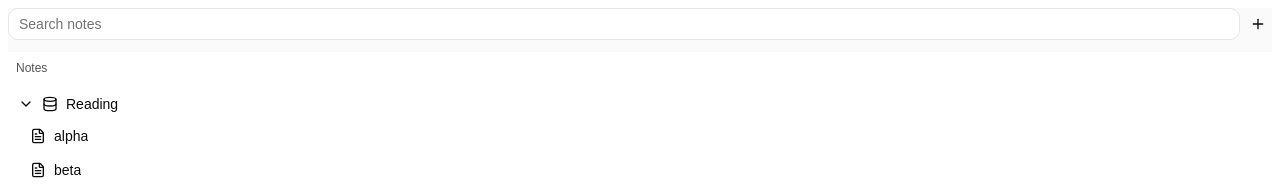
Test: NotesSidebar › filters the tree with the search input
Type "beta" into the field labelled "Search notes".
click(624, 24); type("beta")  # box x1=8 y1=8 x2=1240 y2=40
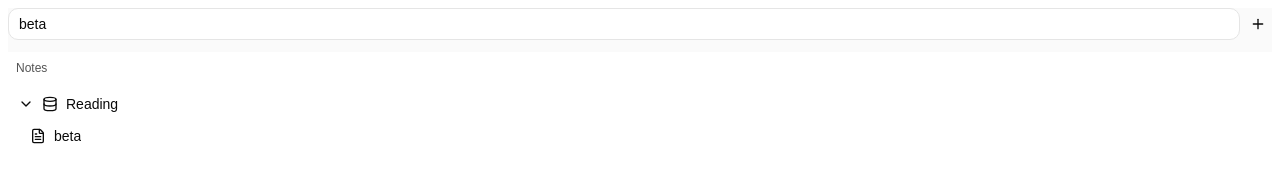
Expected: the link "beta" is shown, x1=30 y1=128 x2=81 y2=144
Expected: the link "alpha" is gone
